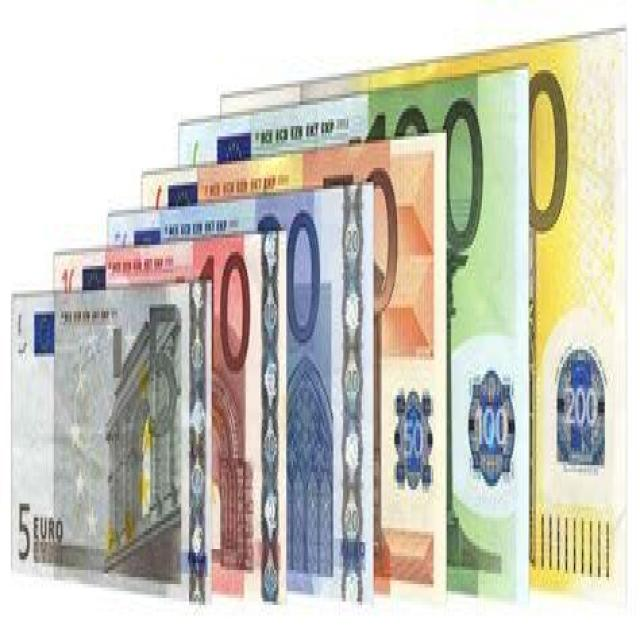banknote: (252, 18, 632, 627), (174, 59, 532, 597), (134, 128, 445, 608), (101, 175, 375, 616), (52, 226, 289, 605), (9, 272, 214, 617), (356, 94, 496, 266), (316, 150, 403, 337), (250, 212, 327, 367), (197, 239, 257, 384), (390, 370, 446, 496), (147, 294, 180, 448), (560, 377, 602, 438), (471, 395, 510, 457), (335, 352, 365, 415), (336, 214, 368, 269), (339, 492, 366, 555), (16, 490, 32, 573), (262, 420, 282, 470), (13, 307, 32, 359), (262, 558, 281, 609)
